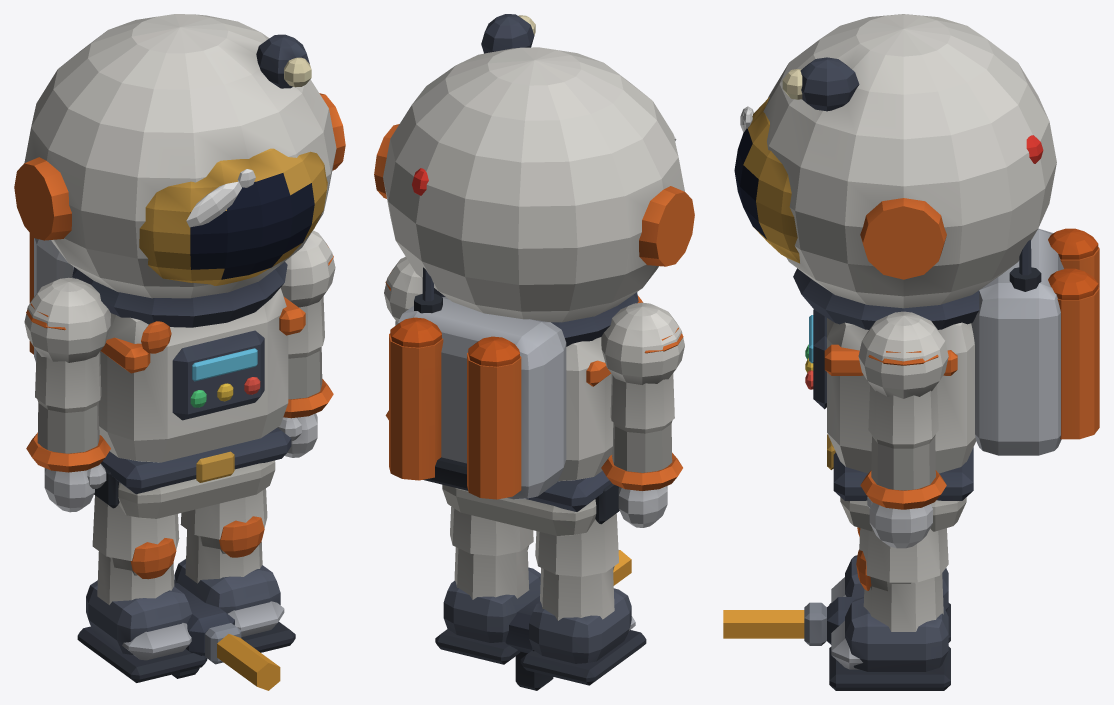
File: astronaut.glb
3 views of the same model, side by side, from view 1: azimuth 30°, elevation 25°; view 2: azimuth 150°, elevation 25°; view 3: azimuth 270°, elevation 25° (orthographic). The views are drawn at different scales.
Visible parts, largest first — view 1: body_head, body_torso, body_pelvis, body_arm_l, glow_visor, body_foot_l, body_foot_r, body_fore_l, body_arm_r, body_shin_l, body_shin_r, body_leg_l (+10 smaller); view 2: body_head, body_pack, body_arm_l, body_foot_l, body_pelvis, body_torso, body_foot_r, body_fore_l, body_leg_l, body_shin_l, body_shin_r, body_leg_r (+4 smaller); view 3: body_head, body_pack, body_torso, body_arm_r, body_foot_r, body_fore_r, body_pelvis, body_shin_r, body_leg_r, fx_bit, body_hand_r, body_drill (+3 smaller).
Part boxes in pixels (box(x1,y1,x2,y2)): body_head: box(14, 14, 345, 327); body_torso: box(98, 288, 305, 462); body_pelvis: box(94, 427, 291, 518); body_arm_l: box(24, 277, 110, 408); glow_visor: box(190, 173, 314, 279); body_foot_l: box(77, 580, 207, 682); body_foot_r: box(174, 559, 295, 652); body_fore_l: box(26, 399, 110, 472); body_arm_r: box(280, 230, 335, 354); body_shin_l: box(97, 538, 176, 604); body_shin_r: box(185, 516, 264, 583); body_leg_l: box(92, 495, 179, 560); body_head: box(374, 14, 694, 346); body_pack: box(389, 297, 566, 499); body_arm_l: box(601, 302, 684, 429); body_foot_l: box(520, 588, 646, 685); body_pelvis: box(442, 470, 619, 536); body_torso: box(558, 295, 642, 481); body_foot_r: box(435, 567, 540, 664); body_fore_l: box(601, 420, 682, 490); body_leg_l: box(535, 513, 618, 576); body_shin_l: box(540, 566, 614, 620); body_shin_r: box(454, 545, 529, 599); body_leg_r: box(450, 506, 533, 555); body_head: box(743, 14, 1056, 329); body_pack: box(971, 228, 1099, 455); body_torso: box(813, 309, 975, 473); body_arm_r: box(858, 311, 948, 444); body_foot_r: box(829, 597, 950, 690); body_fore_r: box(860, 434, 946, 509); body_pelvis: box(827, 434, 973, 531); body_shin_r: box(856, 549, 943, 631); body_leg_r: box(859, 528, 948, 582); fx_bit: box(723, 610, 804, 638); body_hand_r: box(867, 497, 932, 548); body_drill: box(804, 597, 858, 645).
Size of the model in its own units: 0.78 by 1.61 by 0.835.
